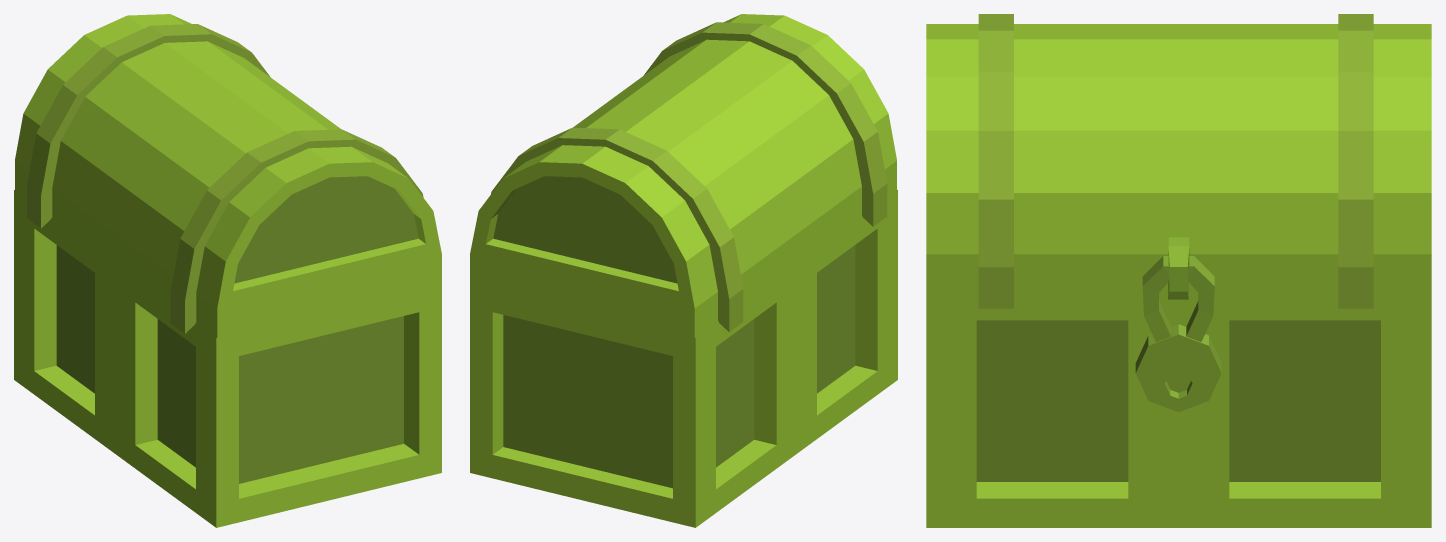
The model's file is Chest.obj.
3 views of the same model, side by side, from view 1: azimuth 30°, elevation 25°; view 2: azimuth 150°, elevation 25°; view 3: azimuth 270°, elevation 25° (orthographic). The views are drawn at different scales.
Parts seen in each view (by area): view 1: Cube.092; view 2: Cube.092; view 3: Cube.092.
Part boxes in pixels (left/top/right/bottom): Cube.092: left=14, top=14, right=441, bottom=527; Cube.092: left=470, top=14, right=897, bottom=527; Cube.092: left=926, top=14, right=1431, bottom=527.
Size of the model in its own units: 0.6053 by 0.7598 by 0.8112.
